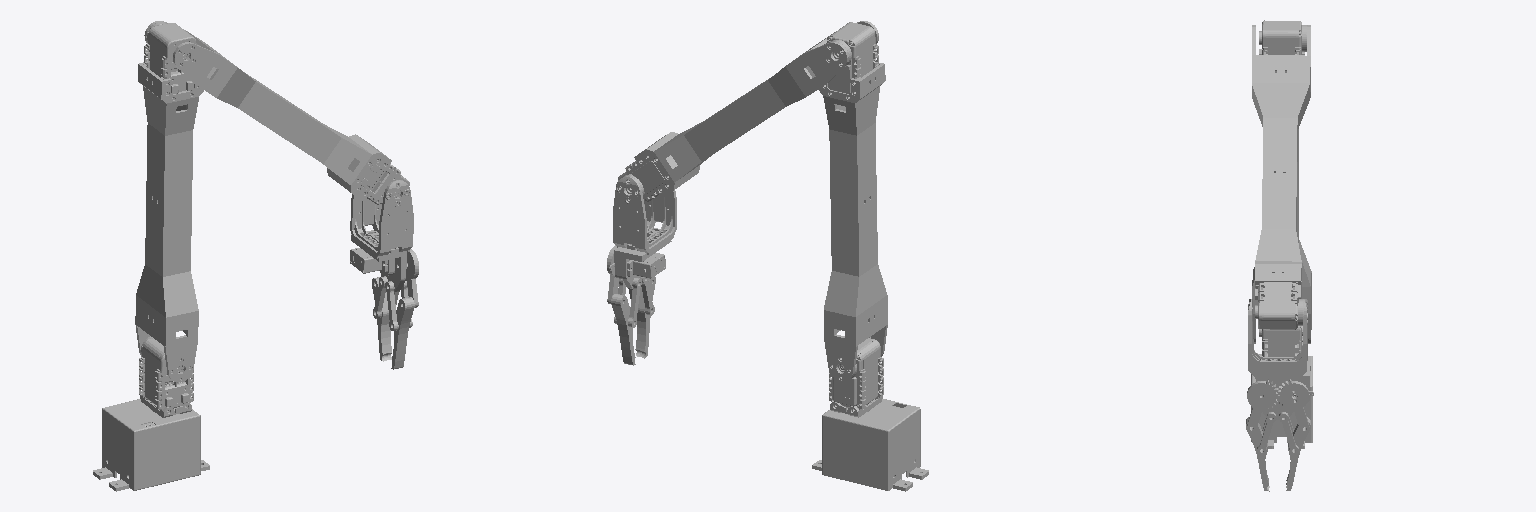
robot.urdf — urdf_assem_file:
<?xml version="1.0" encoding="utf-8"?>
<!-- This URDF was automatically created by SolidWorks to URDF Exporter! Originally created by [author] ([email redacted]) 
     Commit Version: 1.6.0-1-g15f4949  Build Version: 1.6.7594.29634
     For more information, please see http://wiki.ros.org/sw_urdf_exporter -->
<robot
  name="urdf_assem_file">
  <link
    name="base_link">
    <inertial>
      <origin
        xyz="0.000355579698008215 2.1926633478879E-05 0.0289011957081291"
        rpy="0 0 0" />
      <mass
        value="0.0672471279634545" />
      <inertia
        ixx="1.96310298881866E-05"
        ixy="2.44566220524293E-08"
        ixz="2.88631363645354E-07"
        iyy="3.01053640724859E-05"
        iyz="9.58837220917106E-10"
        izz="3.14181245744585E-05" />
    </inertial>
    <visual>
      <origin
        xyz="0 0 0"
        rpy="0 0 0" />
      <geometry>
        <mesh
          filename="package://urdf_assem_file/meshes/base_link.STL" />
      </geometry>
      <material
        name="">
        <color
          rgba="0.752941176470588 0.752941176470588 0.752941176470588 1" />
      </material>
    </visual>
    <collision>
      <origin
        xyz="0 0 0"
        rpy="0 0 0" />
      <geometry>
        <mesh
          filename="package://urdf_assem_file/meshes/base_link.STL" />
      </geometry>
    </collision>
  </link>
  <link
    name="link_1">
    <inertial>
      <origin
        xyz="2.0627E-06 0.000944 0.026934"
        rpy="0 0 0" />
      <mass
        value="0.045872" />
      <inertia
        ixx="1.1948E-05"
        ixy="-1.2612E-09"
        ixz="6.2312E-10"
        iyy="1.0175E-05"
        iyz="1.9653E-07"
        izz="6.9253E-06" />
    </inertial>
    <visual>
      <origin
        xyz="0 0 0"
        rpy="0 0 0" />
      <geometry>
        <mesh
          filename="package://urdf_assem_file/meshes/link_1.STL" />
      </geometry>
      <material
        name="">
        <color
          rgba="0.75294 0.75294 0.75294 1" />
      </material>
    </visual>
    <collision>
      <origin
        xyz="0 0 0"
        rpy="0 0 0" />
      <geometry>
        <mesh
          filename="package://urdf_assem_file/meshes/link_1.STL" />
      </geometry>
    </collision>
  </link>
  <joint
    name="join_1"
    type="continuous">
    <origin
      xyz="0.0133 0 0.05238"
      rpy="0 0 -0.016602" />
    <parent
      link="base_link" />
    <child
      link="link_1" />
    <axis
      xyz="0 0 1" />
  </joint>
  <link
    name="link_2">
    <inertial>
      <origin
        xyz="0.011142 0.037546 0.16602"
        rpy="0 0 0" />
      <mass
        value="0.1171" />
      <inertia
        ixx="0.00038753"
        ixy="-4.0644E-06"
        ixz="-2.3964E-05"
        iyy="0.00037689"
        iyz="-8.096E-05"
        izz="3.4264E-05" />
    </inertial>
    <visual>
      <origin
        xyz="0 0 0"
        rpy="0 0 0" />
      <geometry>
        <mesh
          filename="package://urdf_assem_file/meshes/link_2.STL" />
      </geometry>
      <material
        name="">
        <color
          rgba="0.75294 0.75294 0.75294 1" />
      </material>
    </visual>
    <collision>
      <origin
        xyz="0 0 0"
        rpy="0 0 0" />
      <geometry>
        <mesh
          filename="package://urdf_assem_file/meshes/link_2.STL" />
      </geometry>
    </collision>
  </link>
  <joint
    name="joint_2"
    type="continuous">
    <origin
      xyz="0 0 0.0415"
      rpy="0.22433 -0.046876 0.20255" />
    <parent
      link="link_1" />
    <child
      link="link_2" />
    <axis
      xyz="-0.20095 -0.95291 0.2271" />
  </joint>
  <link
    name="link_3">
    <inertial>
      <origin
        xyz="0.11737 -0.048804 -0.1018"
        rpy="0 0 0" />
      <mass
        value="0.10835" />
      <inertia
        ixx="0.00014716"
        ixy="5.9144E-05"
        ixz="0.0001217"
        iyy="0.00026373"
        iyz="-5.2652E-05"
        izz="0.00017417" />
    </inertial>
    <visual>
      <origin
        xyz="0 0 0"
        rpy="0 0 0" />
      <geometry>
        <mesh
          filename="package://urdf_assem_file/meshes/link_3.STL" />
      </geometry>
      <material
        name="">
        <color
          rgba="0.75294 0.75294 0.75294 1" />
      </material>
    </visual>
    <collision>
      <origin
        xyz="0 0 0"
        rpy="0 0 0" />
      <geometry>
        <mesh
          filename="package://urdf_assem_file/meshes/link_3.STL" />
      </geometry>
    </collision>
  </link>
  <joint
    name="joint_3"
    type="continuous">
    <origin
      xyz="0.017277 0.058082 0.25901"
      rpy="-0.048311 0.031216 0.042908" />
    <parent
      link="link_2" />
    <child
      link="link_3" />
    <axis
      xyz="-0.24861 -0.95291 0.17363" />
  </joint>
  <link
    name="gripper_link">
    <inertial>
      <origin
        xyz="0.048435 0.00065629 -0.04768"
        rpy="0 0 0" />
      <mass
        value="0.049837" />
      <inertia
        ixx="1.2966E-05"
        ixy="-1.0985E-06"
        ixz="3.4425E-06"
        iyy="1.1255E-05"
        iyz="-1.3585E-06"
        izz="1.2841E-05" />
    </inertial>
    <visual>
      <origin
        xyz="0 0 0"
        rpy="0 0 0" />
      <geometry>
        <mesh
          filename="package://urdf_assem_file/meshes/gripper_link.STL" />
      </geometry>
      <material
        name="">
        <color
          rgba="0.75294 0.75294 0.75294 1" />
      </material>
    </visual>
    <collision>
      <origin
        xyz="0 0 0"
        rpy="0 0 0" />
      <geometry>
        <mesh
          filename="package://urdf_assem_file/meshes/gripper_link.STL" />
      </geometry>
    </collision>
  </link>
  <joint
    name="gripper_joint"
    type="continuous">
    <origin
      xyz="0.1768 -0.074207 -0.15412"
      rpy="-0.22521 0.75342 -0.098285" />
    <parent
      link="link_3" />
    <child
      link="gripper_link" />
    <axis
      xyz="-0.23104 -0.95291 -0.19641" />
  </joint>
</robot>

--- What the picture shows (computed from the rendered views, not written in the file) ---
3 views of the same robot in one strip: view 1: azimuth 30°, elevation 25°; view 2: azimuth 150°, elevation 25°; view 3: azimuth 270°, elevation 25° (orthographic).
Robot: urdf_assem_file — 5 links, 4 joints (4 continuous); root link base_link; default pose: every joint at zero.
Links seen in each view (by area): view 1: link_2, link_3, gripper_link, base_link, link_1; view 2: link_2, link_3, gripper_link, base_link, link_1; view 3: link_3, gripper_link, link_2, link_1, base_link.
Link boxes in pixels (x1,y1,x2,y2): link_2: (135, 22, 203, 382); link_3: (144, 21, 409, 204); gripper_link: (350, 180, 418, 369); base_link: (93, 399, 209, 491); link_1: (139, 336, 193, 417); link_2: (818, 22, 887, 381); link_3: (618, 21, 878, 201); gripper_link: (607, 176, 676, 365); base_link: (812, 399, 928, 491); link_1: (829, 338, 883, 417); link_3: (1252, 25, 1310, 329); gripper_link: (1246, 299, 1313, 491); link_2: (1252, 20, 1311, 343); link_1: (1259, 326, 1302, 356); base_link: (1251, 356, 1312, 448).
Size in the robot's own frame: 0.2659 by 0.0563 by 0.3715 metres.
Meshes: 5 distinct files referenced, 5 mesh visuals loaded (5 binary STL).